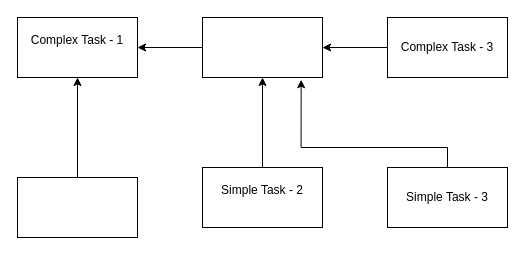
The diagram is 525 pixels wide and 255 high, and some of its shapes have lost their labels. The shapes that lost their labels are listed below. From the top down, each one's centre as x and y in pixels, then its label:
the point at 262,47: Complex Task - 2
the point at 77,207: Simple Task - 1
